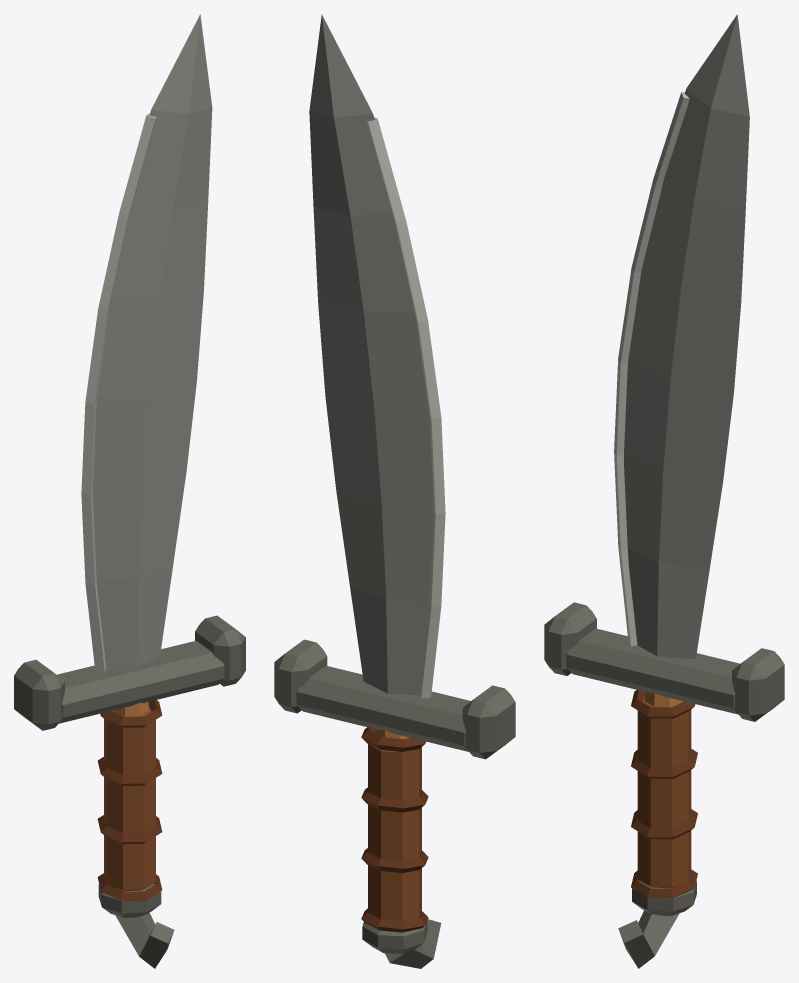
Rendered from StoneScimitar.fbx.
3 views of the same model, side by side, from view 1: azimuth 30°, elevation 25°; view 2: azimuth 150°, elevation 25°; view 3: azimuth 330°, elevation 25° (orthographic). The views are drawn at different scales.
Parts seen in each view (by area): view 1: StoneScimitar; view 2: StoneScimitar; view 3: StoneScimitar.
Boxes of the visible parts, x1,y1,x2,y2 form: StoneScimitar: [14, 14, 245, 968]; StoneScimitar: [274, 14, 515, 968]; StoneScimitar: [544, 14, 784, 968].
Bounding box in the file's own units: 1.06 × 4.37 × 0.4747.
Materials: 1 (1 with a texture image).
